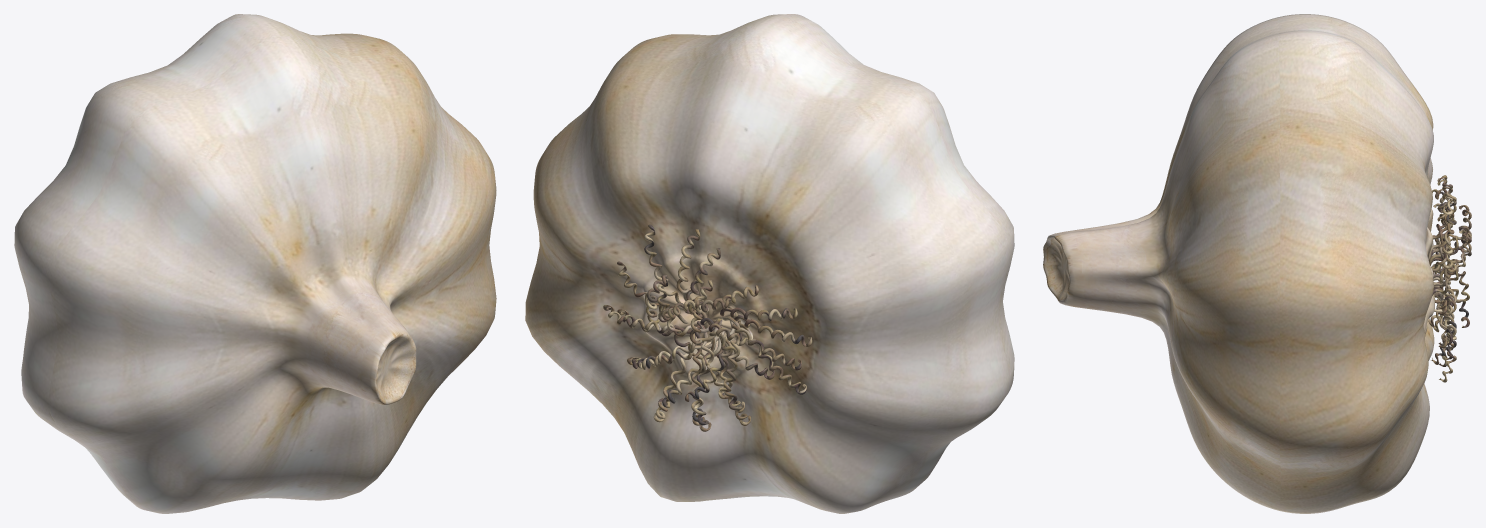
3 renders of one model, left to right at view 1: azimuth 30°, elevation 25°; view 2: azimuth 150°, elevation 25°; view 3: azimuth 270°, elevation 25°, orthographic. The views are drawn at different scales.
Visible parts, largest first — view 1: Garlic; view 2: Garlic; view 3: Garlic.
Part boxes in pixels (x1,y1,x2,y2): Garlic: (14,14,496,513); Garlic: (525,14,1014,513); Garlic: (1043,14,1471,513).
Bounding box in the file's own units: 7.59 × 7.77 × 6.71.
1 material, 1 textured.
